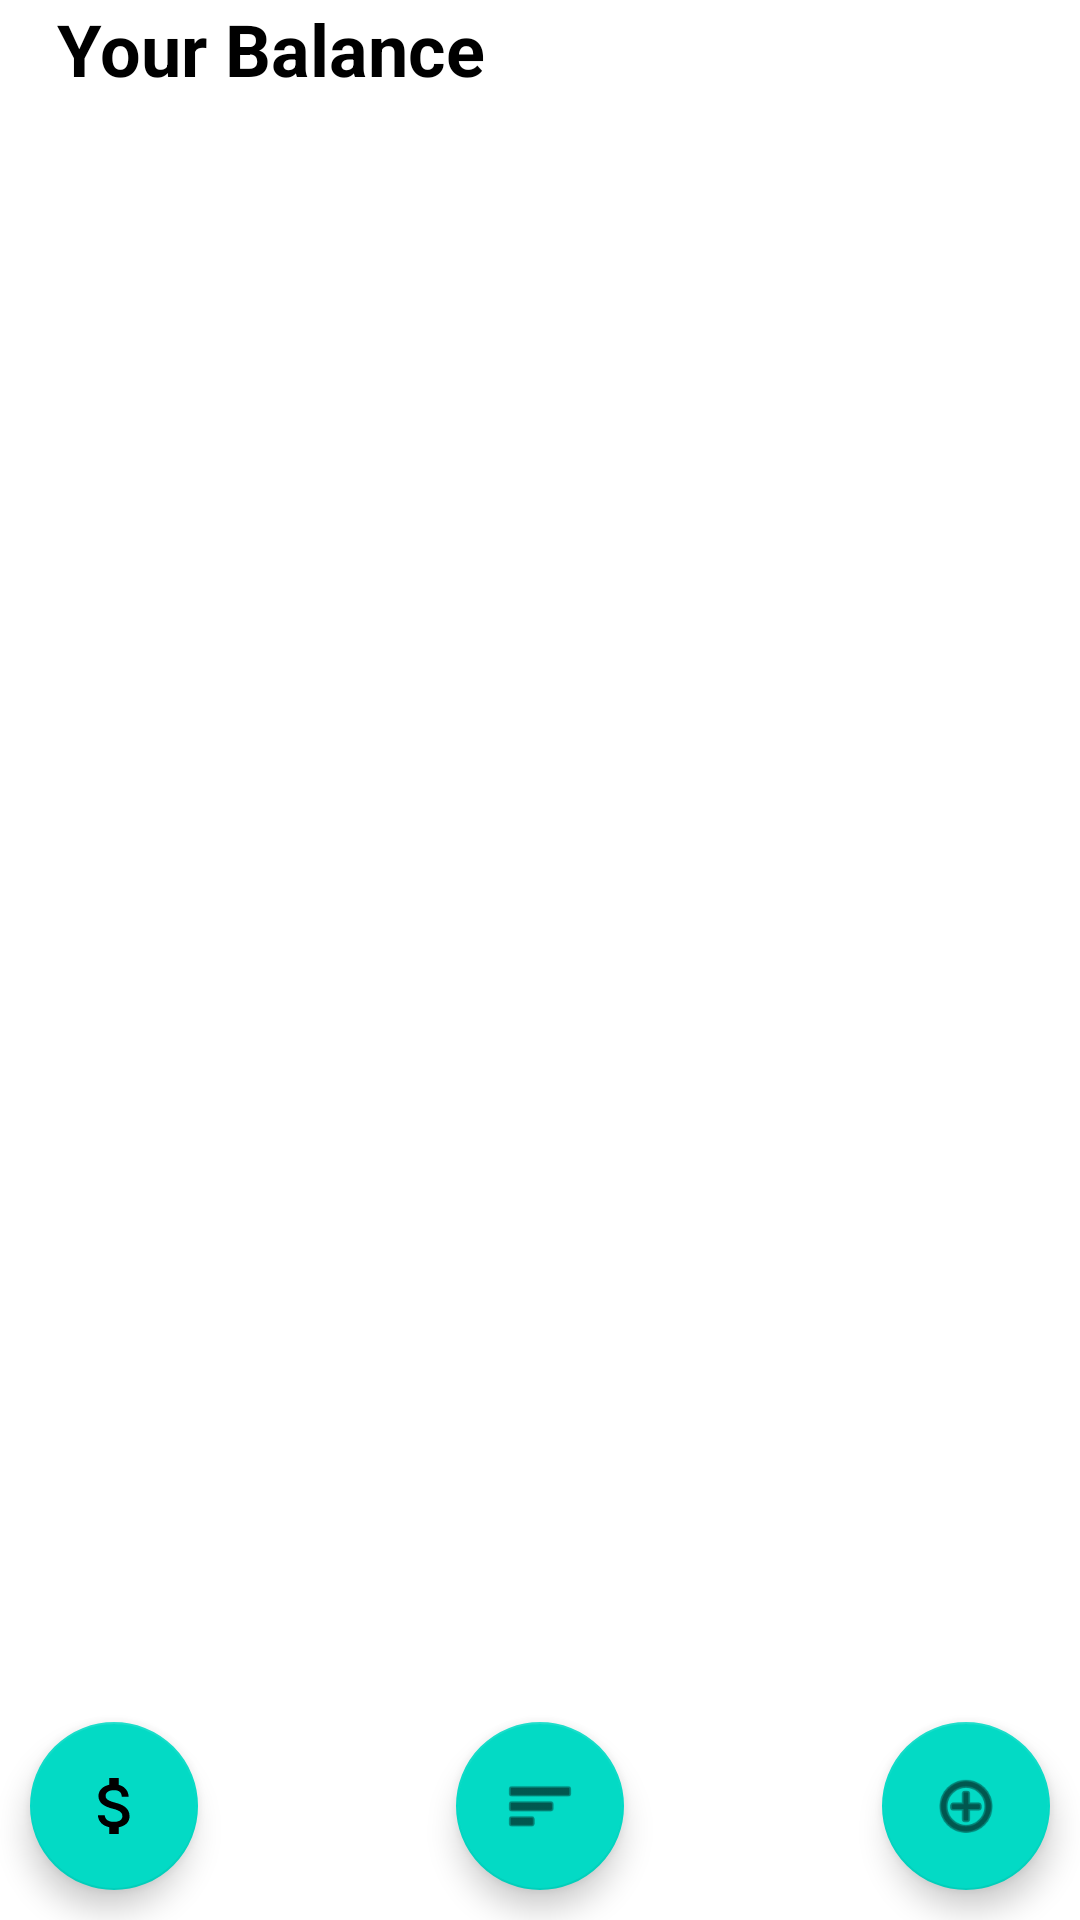

Point at icon controls on the screen. Image size 1080px x 1920px, points as [x,y].
sort by size: [540,1806]
